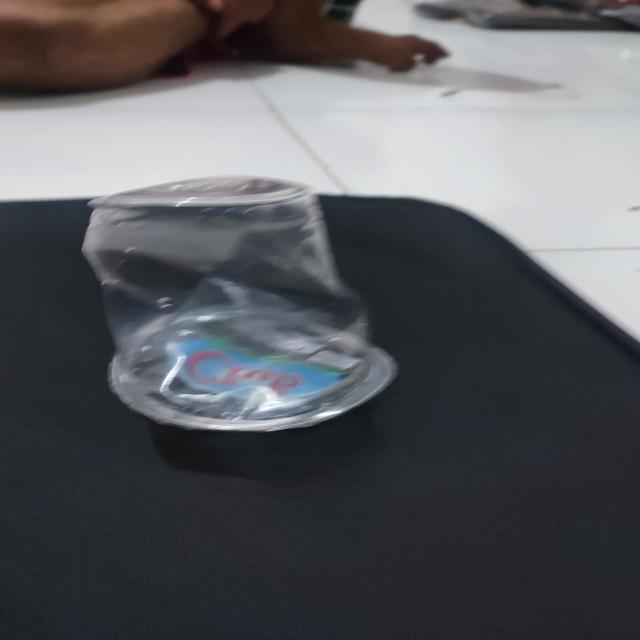air-gelas-rusak: (75, 179, 402, 436)
